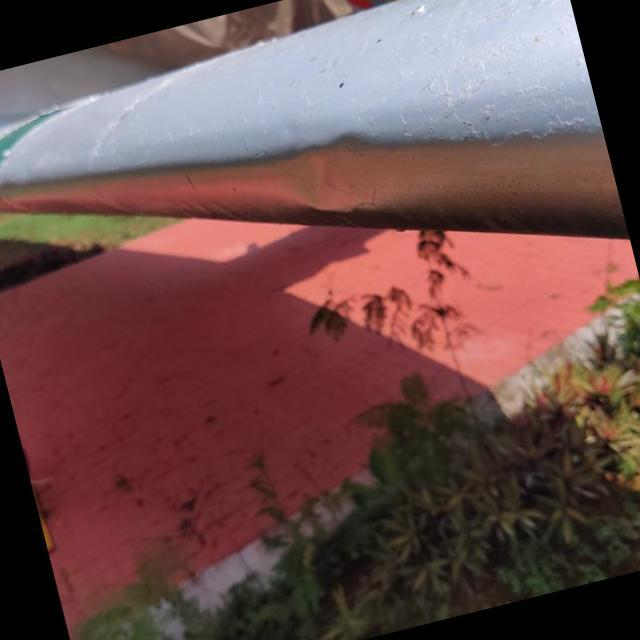Dent: (264, 100, 404, 250)
